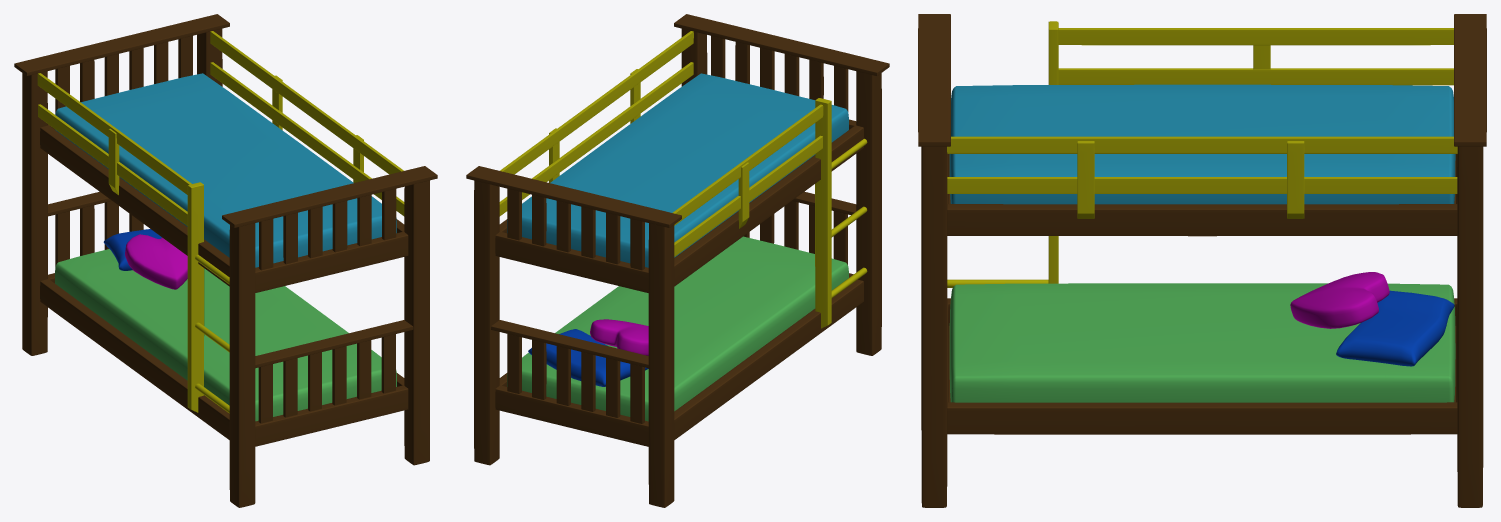
File: PROP_Beliche.fbx
3 renders of one model, left to right at view 1: azimuth 30°, elevation 25°; view 2: azimuth 150°, elevation 25°; view 3: azimuth 270°, elevation 25°, orthographic. The views are drawn at different scales.
Parts seen in each view (by area): view 1: Beliche, ColchaoCima, ColchaoBaixo, CercadoEscada, Cercado, Almofada_Cora, Travesseiro; view 2: Beliche, ColchaoCima, ColchaoBaixo, CercadoEscada, Cercado, Almofada_Cora, Travesseiro; view 3: Beliche, ColchaoBaixo, ColchaoCima, Cercado, CercadoEscada, Travesseiro, Almofada_Cora.
Part boxes in pixels (box(x1,y1,x2,y2)): Beliche: box(14, 14, 437, 507); ColchaoCima: box(55, 73, 396, 267); ColchaoBaixo: box(55, 249, 396, 421); CercadoEscada: box(37, 73, 229, 413); Cercado: box(210, 31, 404, 216); Almofada_Cora: box(125, 234, 187, 289); Travesseiro: box(103, 229, 161, 270); Beliche: box(466, 14, 889, 507); ColchaoCima: box(507, 73, 848, 267); ColchaoBaixo: box(507, 236, 848, 421); CercadoEscada: box(672, 98, 867, 328); Cercado: box(499, 31, 693, 216); Almofada_Cora: box(590, 319, 648, 355); Travesseiro: box(528, 329, 648, 386); Beliche: box(918, 14, 1486, 507); ColchaoBaixo: box(949, 283, 1455, 402); ColchaoCima: box(949, 84, 1455, 204); Cercado: box(947, 136, 1457, 218); CercadoEscada: box(947, 21, 1453, 287); Travesseiro: box(1336, 290, 1454, 366); Almofada_Cora: box(1290, 272, 1389, 328).
Size of the model in its own units: 11.65 by 15.71 by 21.85.
